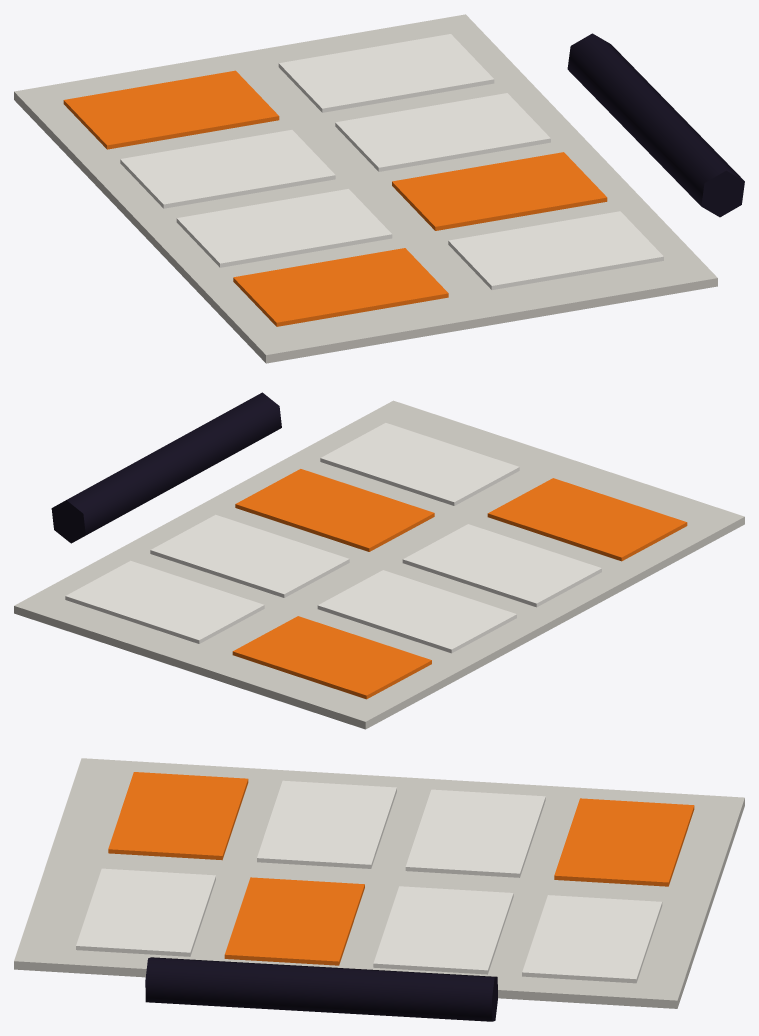
File: station_processing_ausstattung_2_0.glb
3 views of the same model, one above another, from view 1: azimuth 30°, elevation 25°; view 2: azimuth 150°, elevation 25°; view 3: azimuth 270°, elevation 25° (orthographic). The views are drawn at different scales.
Visible parts, largest first — view 1: station_processing_ausstattung_2_0; view 2: station_processing_ausstattung_2_0; view 3: station_processing_ausstattung_2_0.
Part boxes in pixels (bbox=[...]): station_processing_ausstattung_2_0: bbox=[14, 14, 744, 363]; station_processing_ausstattung_2_0: bbox=[14, 392, 744, 729]; station_processing_ausstattung_2_0: bbox=[14, 758, 744, 1021].
Bounding box in the file's own units: 0.2742 × 0.0229 × 0.3164.
